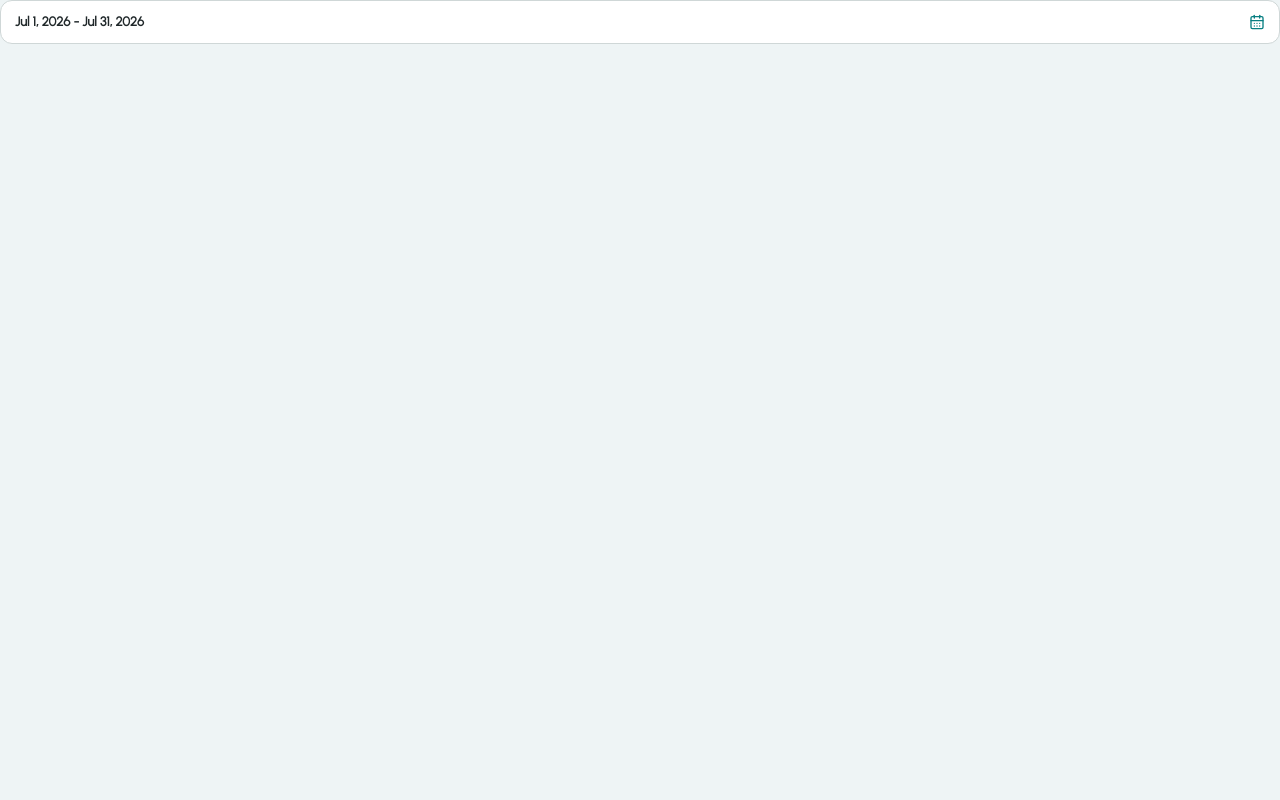
ShiftDateRangeControl › uses caller-provided accessible control and dialog copy
This screenshot has width=1280, height=800.
Click the button with aria-label "Change billing date range" at (80, 22), box [0, 0, 1279, 44]
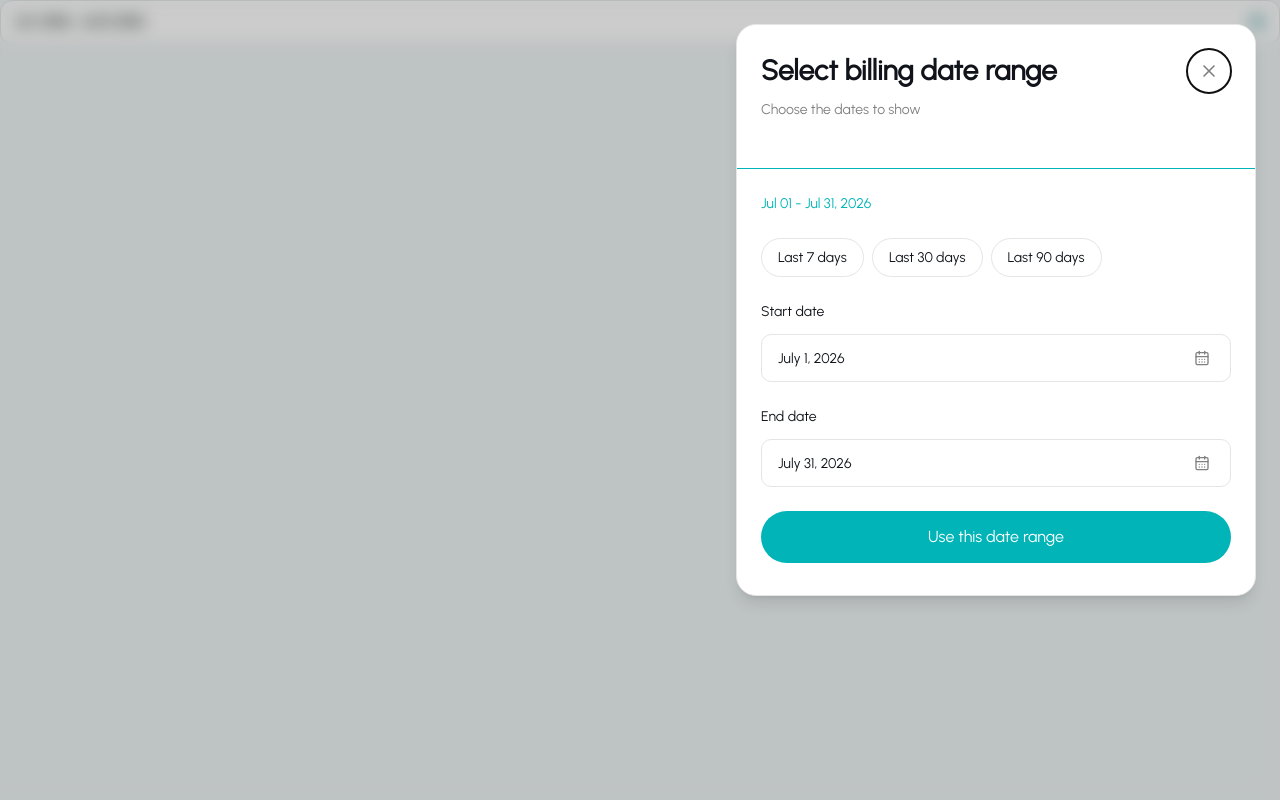
expect the heading "Select billing date range" is shown: met, box [761, 53, 1057, 87]
